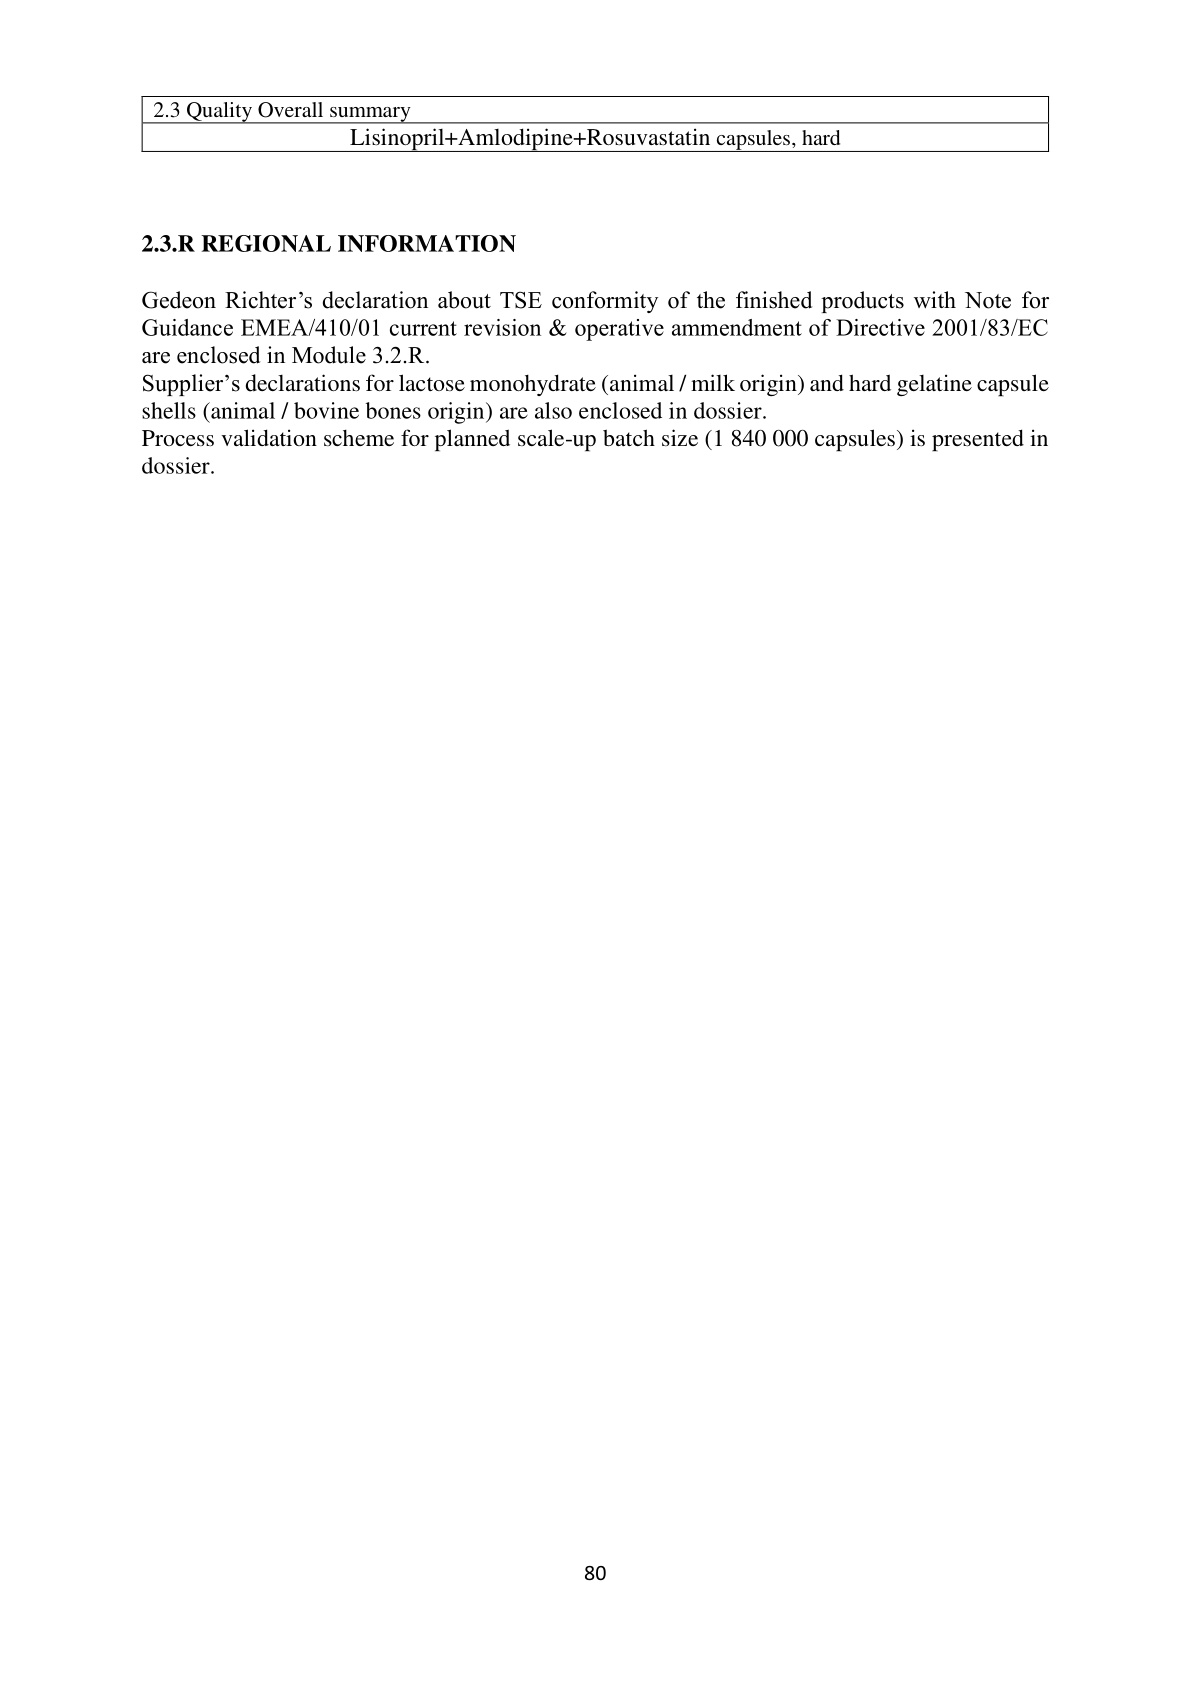full_lined: (140, 95, 1049, 152)
